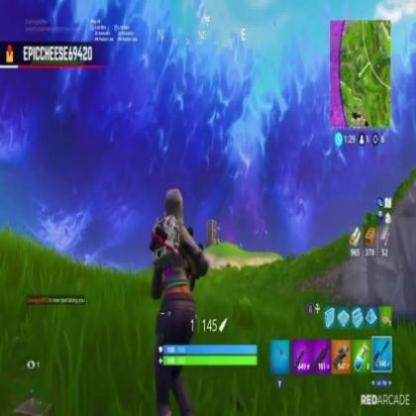person: (140, 191, 211, 414)
